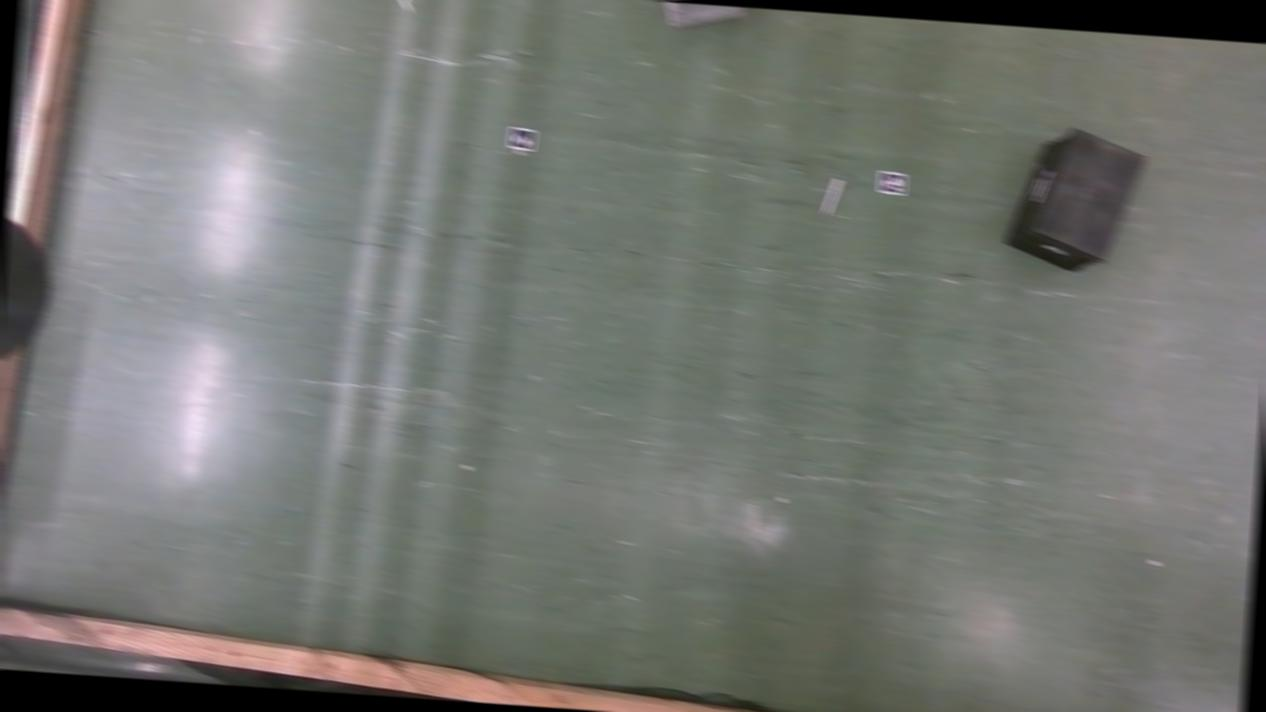probes: (821, 178, 842, 217), (386, 0, 412, 12)
rako: (1003, 126, 1148, 280)
